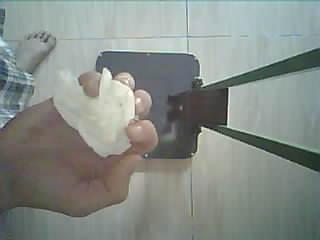paper: (54, 69, 135, 157)
